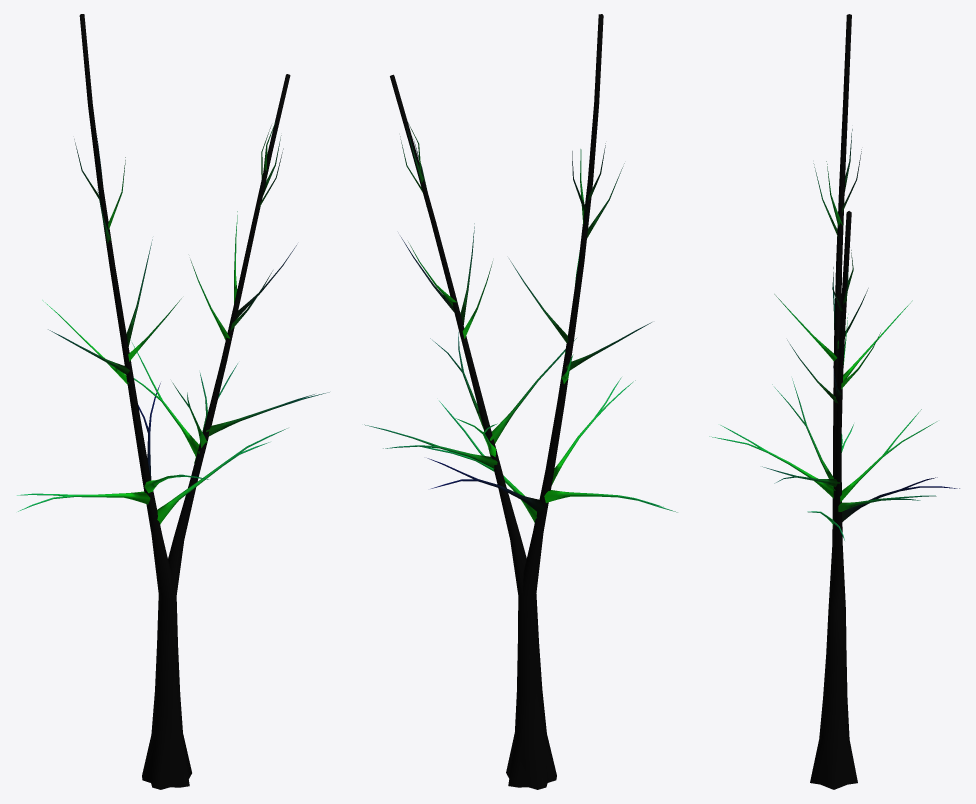
Rendered from treeit_tree01.fbx.
The picture shows the model from 3 angles, left to right: view 1: azimuth 30°, elevation 25°; view 2: azimuth 150°, elevation 25°; view 3: azimuth 270°, elevation 25°; orthographic projection. The views are drawn at different scales.
Parts seen in each view (by area): view 1: _0; view 2: _0; view 3: _0.
Part boxes in pixels (x1,y1,x2,y2): _0: (17,14,329,789); _0: (364,14,677,789); _0: (709,14,959,789).
Size of the model in its own units: 515 by 1353 by 427.
